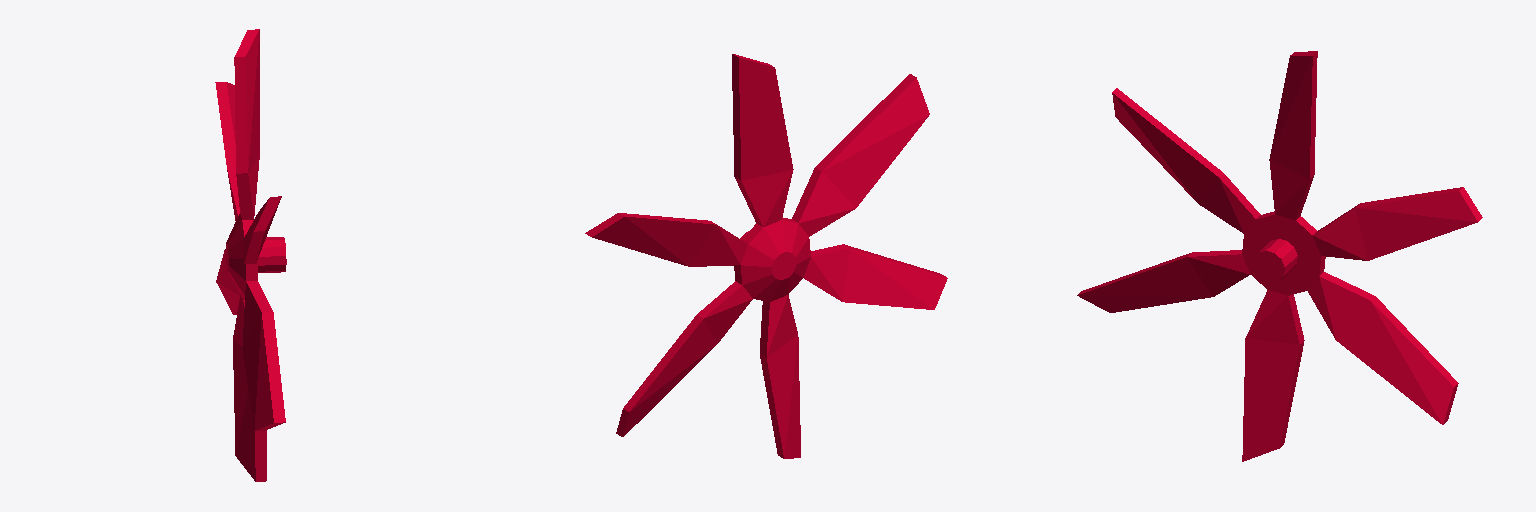
3 views of the same model, side by side, from view 1: azimuth 30°, elevation 25°; view 2: azimuth 150°, elevation 25°; view 3: azimuth 270°, elevation 25° (orthographic).
Parts seen in each view (by area): view 1: propeller1; view 2: propeller1; view 3: propeller1.
Part boxes in pixels (left/top/right/bottom): propeller1: left=215, top=29, right=286, bottom=481; propeller1: left=585, top=54, right=947, bottom=458; propeller1: left=1077, top=51, right=1482, bottom=461.
Bounding box in the file's own units: 22.69 × 54.08 × 47.42.